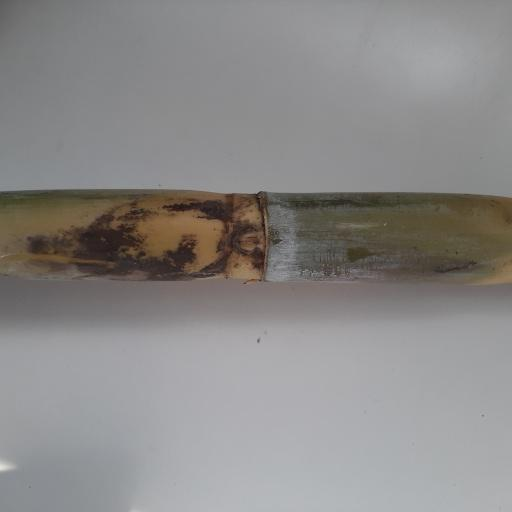Bud: (232, 226, 263, 256)
